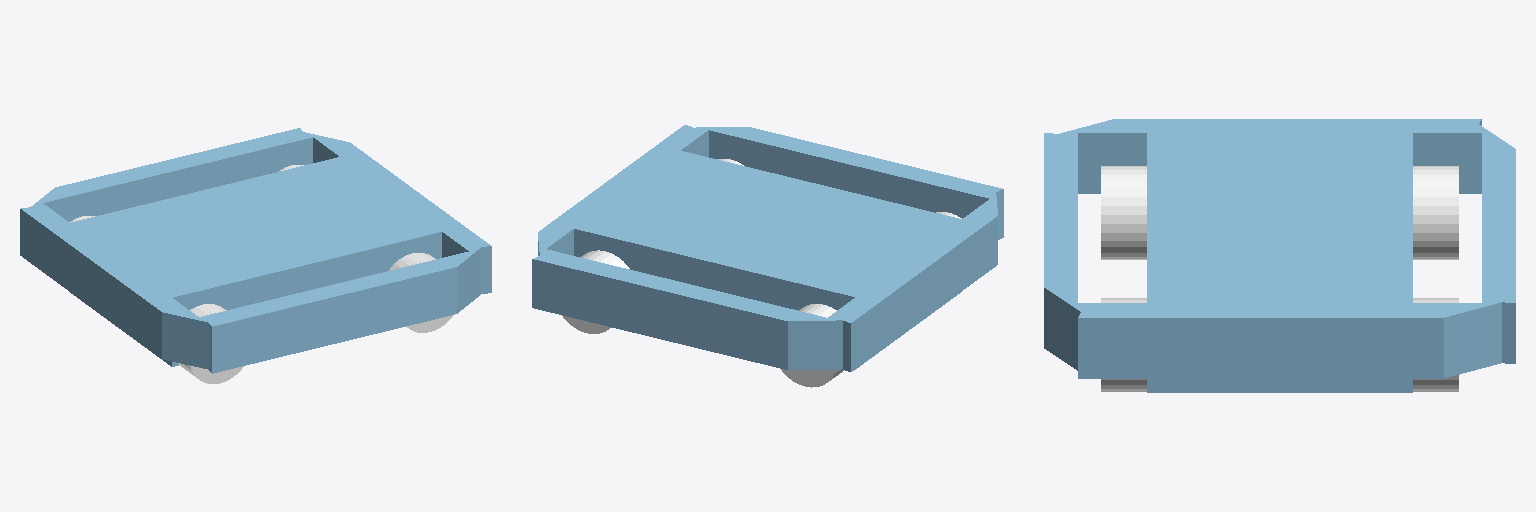
robot.urdf — robot:
<?xml version="1.0" ?>
<!-- =================================================================================== -->
<!-- |    This document was autogenerated by xacro from robot.urdf.xacro               | -->
<!-- |    EDITING THIS FILE BY HAND IS NOT RECOMMENDED                                 | -->
<!-- =================================================================================== -->
<robot name="robot">
  <material name="blue">
    <color rgba="1.0 1.0 1.0 1.0"/>
  </material>
  <material name="green">
    <color rgba="1.0 1.0 1.0 1.0"/>
  </material>
  <material name="red">
    <color rgba="1.0 1.0 1.0 1.0"/>
  </material>
  <link name="base_link"/>
  <joint name="chassis_joint" type="fixed">
    <parent link="base_link"/>
    <child link="chassis"/>
    <origin xyz="0 0 0"/>
  </joint>
  <link name="chassis">
    <inertial>
      <origin rpy="0 0 -1.5707963267948966" xyz="3.84321e-10 9.33138e-10 0.0163291"/>
      <!-- Please change mass and inertia matrix to reflect better aprox -->
      <mass value="16.479"/>
      <inertia ixx="0.174135" ixy="1.42629e-09" ixz="-7.38887e-11" iyy="0.119734" iyz="-1.54691e-10" izz="0.279608"/>
    </inertial>
    <visual>
      <origin rpy="0 -0 -1.5707963267948966" xyz="0 0 0"/>
      <geometry>
        <mesh filename="package://rivals/description/assets/part_1__6ed075fc00e4d09673dc30a20c0a2d67.stl"/>
      </geometry>
      <material name="part_1__6ed075fc00e4d09673dc30a20c0a2d67_material">
        <color rgba="0.615686 0.811765 0.929412 1"/>
      </material>
    </visual>
    <collision>
      <origin rpy="0 -0 -1.5707963267948966" xyz="0 0 0"/>
      <geometry>
        <mesh filename="package://rivals/description/assets/part_1__6ed075fc00e4d09673dc30a20c0a2d67.stl"/>
      </geometry>
    </collision>
  </link>
  <joint name="FL_wheel_joint" type="continuous">
    <origin rpy="-1.5707963267948966 0 0" xyz="0.11829359 0.11703082 0"/>
    <parent link="chassis"/>
    <child link="FL_wheel_link"/>
    <axis xyz="0 0 1"/>
  </joint>
  <link name="FL_wheel_link">
    <visual>
      <geometry>
        <cylinder length="0.03643720" radius="0.035369"/>
      </geometry>
      <material name="red"/>
    </visual>
    <collision>
      <geometry>
        <sphere radius="0.035369"/>
      </geometry>
    </collision>
    <inertial>
      <origin rpy="0 0 0" xyz="0 0 0"/>
      <mass value="1"/>
      <inertia ixx="0.0004233806689033333" ixy="0.0" ixz="0.0" iyy="0.0004233806689033333" iyz="0.0" izz="0.0006254830804999999"/>
    </inertial>
  </link>
  <joint name="BL_wheel_joint" type="continuous">
    <origin rpy="-1.5707963267948966 0 0" xyz="-0.11829359 0.11703082 0"/>
    <parent link="chassis"/>
    <child link="BL_wheel_link"/>
    <axis xyz="0 0 1"/>
  </joint>
  <link name="BL_wheel_link">
    <visual>
      <geometry>
        <cylinder length="0.03643720" radius="0.035369"/>
      </geometry>
      <material name="red"/>
    </visual>
    <collision>
      <geometry>
        <sphere radius="0.035369"/>
      </geometry>
    </collision>
    <inertial>
      <origin rpy="0 0 0" xyz="0 0 0"/>
      <mass value="1"/>
      <inertia ixx="0.0004233806689033333" ixy="0.0" ixz="0.0" iyy="0.0004233806689033333" iyz="0.0" izz="0.0006254830804999999"/>
    </inertial>
  </link>
  <joint name="FR_wheel_joint" type="continuous">
    <origin rpy="1.5707963267948966 0 0" xyz="0.11829359 -0.11703082 0"/>
    <parent link="chassis"/>
    <child link="FR_wheel_link"/>
    <axis xyz="0 0 -1"/>
  </joint>
  <link name="FR_wheel_link">
    <visual>
      <geometry>
        <cylinder length="0.03643720" radius="0.035369"/>
      </geometry>
      <material name="red"/>
    </visual>
    <collision>
      <geometry>
        <sphere radius="0.035369"/>
      </geometry>
    </collision>
    <inertial>
      <origin rpy="0 0 0" xyz="0 0 0"/>
      <mass value="1"/>
      <inertia ixx="0.0004233806689033333" ixy="0.0" ixz="0.0" iyy="0.0004233806689033333" iyz="0.0" izz="0.0006254830804999999"/>
    </inertial>
  </link>
  <joint name="BR_wheel_joint" type="continuous">
    <origin rpy="1.5707963267948966 0 0" xyz="-0.11829359 -0.11703082 0"/>
    <parent link="chassis"/>
    <child link="BR_wheel_link"/>
    <axis xyz="0 0 -1"/>
  </joint>
  <link name="BR_wheel_link">
    <visual>
      <geometry>
        <cylinder length="0.03643720" radius="0.035369"/>
      </geometry>
      <material name="red"/>
    </visual>
    <collision>
      <geometry>
        <sphere radius="0.035369"/>
      </geometry>
    </collision>
    <inertial>
      <origin rpy="0 0 0" xyz="0 0 0"/>
      <mass value="1"/>
      <inertia ixx="0.0004233806689033333" ixy="0.0" ixz="0.0" iyy="0.0004233806689033333" iyz="0.0" izz="0.0006254830804999999"/>
    </inertial>
  </link>
  <!-- <joint name="camera_joint" type="fixed"> -->
  <!--   <parent link="base_link"/> -->
  <!--   <child  link="camera_link"/> -->
  <!--   <origin xyz="0.05 -0.1 0.1" rpy="0 0 0"/> -->
  <!-- </joint> -->
  <!-- <link name="camera_link"> -->
  <!-- </link> -->
  <!---->
  <!-- <joint name="depth_camera_joint" type="fixed"> -->
  <!--   <parent link="base_link"/> -->
  <!--   <child  link="depth_camera_link"/> -->
  <!--   <origin xyz="0.05 0.1 0.1" rpy="0 0 0"/> -->
  <!-- </joint> -->
  <!-- <link name="depth_camera_link"> -->
  <!-- </link> -->
  <!-- Want Isaac to consume the joint speeds not /cmd_vel -->
  <ros2_control name="robot" type="system">
    <hardware>
      <plugin>topic_based_ros2_control/TopicBasedSystem</plugin>
      <param name="joint_commands_topic">/robot/joint_command</param>
      <param name="joint_states_topic">/robot/joint_states</param>
      <param name="sum_wrapped_joint_states">true</param>
    </hardware>
    <joint name="FL_wheel_joint">
      <command_interface name="velocity">
          </command_interface>
      <state_interface name="position"/>
      <state_interface name="velocity"/>
    </joint>
    <joint name="FR_wheel_joint">
      <command_interface name="velocity">
          </command_interface>
      <state_interface name="position"/>
      <state_interface name="velocity"/>
    </joint>
    <joint name="BL_wheel_joint">
      <command_interface name="velocity">
          </command_interface>
      <state_interface name="position"/>
      <state_interface name="velocity"/>
    </joint>
    <joint name="BR_wheel_joint">
      <command_interface name="velocity">
          </command_interface>
      <state_interface name="position"/>
      <state_interface name="velocity"/>
    </joint>
  </ros2_control>
  <!-- <xacro:include filename="camera.xacro" /> -->
  <!-- <xacro:include filename="depth_camera.xacro" /> -->
</robot>

--- Render facts (derived) ---
3 views of the same robot in one strip: view 1: azimuth 30°, elevation 25°; view 2: azimuth 150°, elevation 25°; view 3: azimuth 270°, elevation 25° (orthographic).
Model robot with 6 links and 5 joints (4 continuous, 1 fixed), rooted at base_link, posed every joint at zero.
Visible links, largest first — view 1: chassis, BR_wheel_link, FR_wheel_link; view 2: chassis, BL_wheel_link, FL_wheel_link; view 3: chassis, BL_wheel_link, BR_wheel_link, FL_wheel_link, FR_wheel_link.
Link boxes in pixels (box(x1,y1,x2,y2)): chassis: box(20, 128, 491, 373); BR_wheel_link: box(178, 304, 243, 383); FR_wheel_link: box(389, 253, 452, 332); chassis: box(532, 125, 1003, 371); BL_wheel_link: box(781, 304, 843, 387); FL_wheel_link: box(562, 250, 629, 333); chassis: box(1044, 119, 1515, 392); BL_wheel_link: box(1413, 166, 1458, 259); BR_wheel_link: box(1101, 166, 1146, 259); FL_wheel_link: box(1413, 298, 1458, 391); FR_wheel_link: box(1101, 298, 1146, 391).
Bounding box of the posed robot: 0.3556 × 0.3556 × 0.0862 m (x, y, z).
1 mesh visuals loaded from 1 distinct referenced files (1 binary STL).
